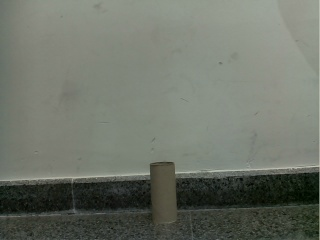rollo papel: (149, 162, 176, 223)
